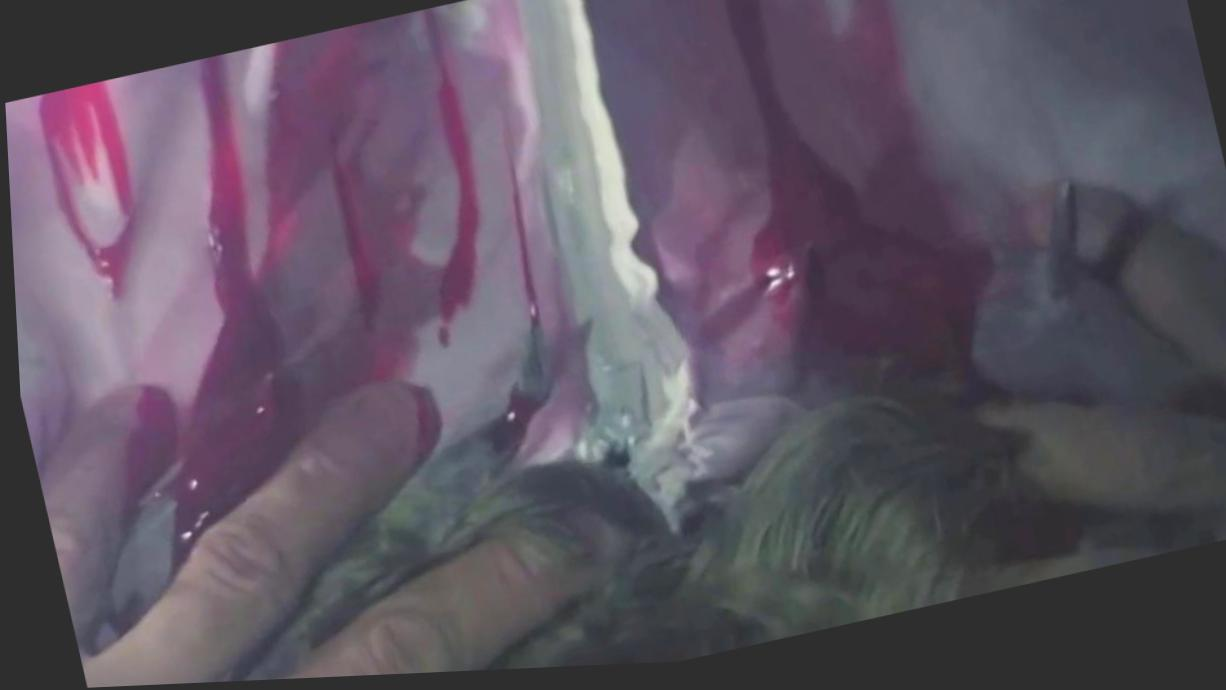Fire: (87, 10, 480, 648), (728, 0, 977, 400), (457, 190, 550, 489), (32, 81, 144, 302)
